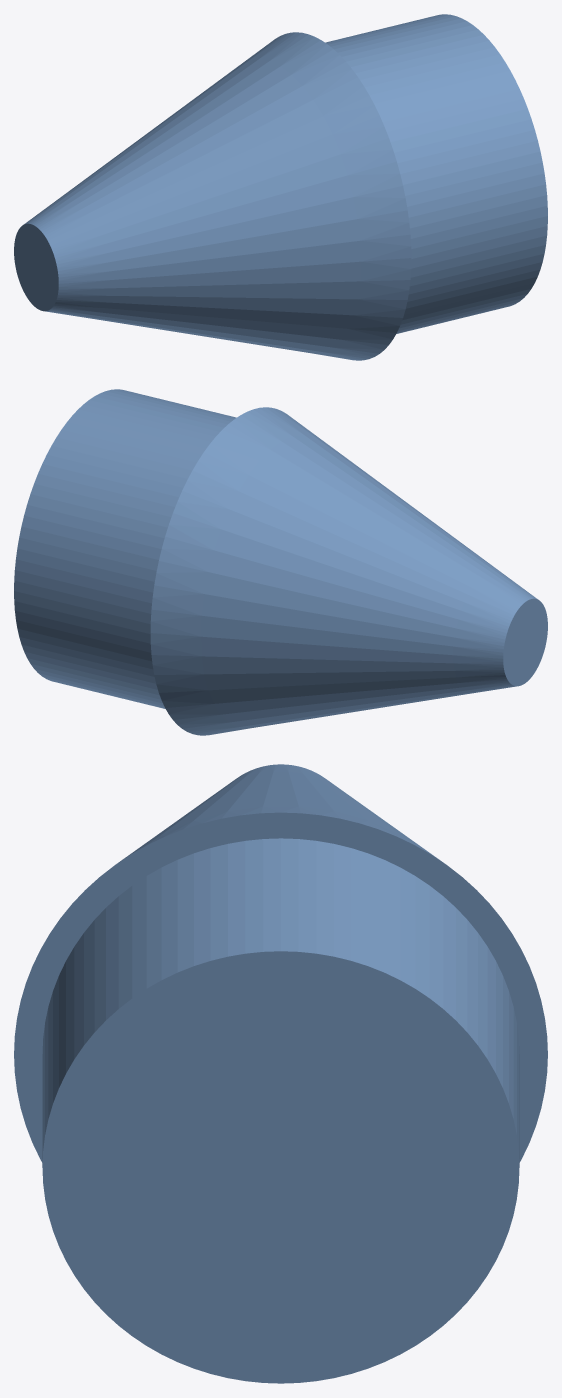
3 views of the same model, one above another, from view 1: azimuth 30°, elevation 25°; view 2: azimuth 150°, elevation 25°; view 3: azimuth 270°, elevation 25° (orthographic). The views are drawn at different scales.
Visible parts, largest first — view 1: geometry_0; view 2: geometry_0; view 3: geometry_0.
Boxes of the visible parts, x1,y1,x2,y2 form: geometry_0: [14, 14, 547, 360]; geometry_0: [14, 389, 547, 735]; geometry_0: [14, 764, 547, 1383].
Size of the model in its own units: 45 by 30 by 30.
